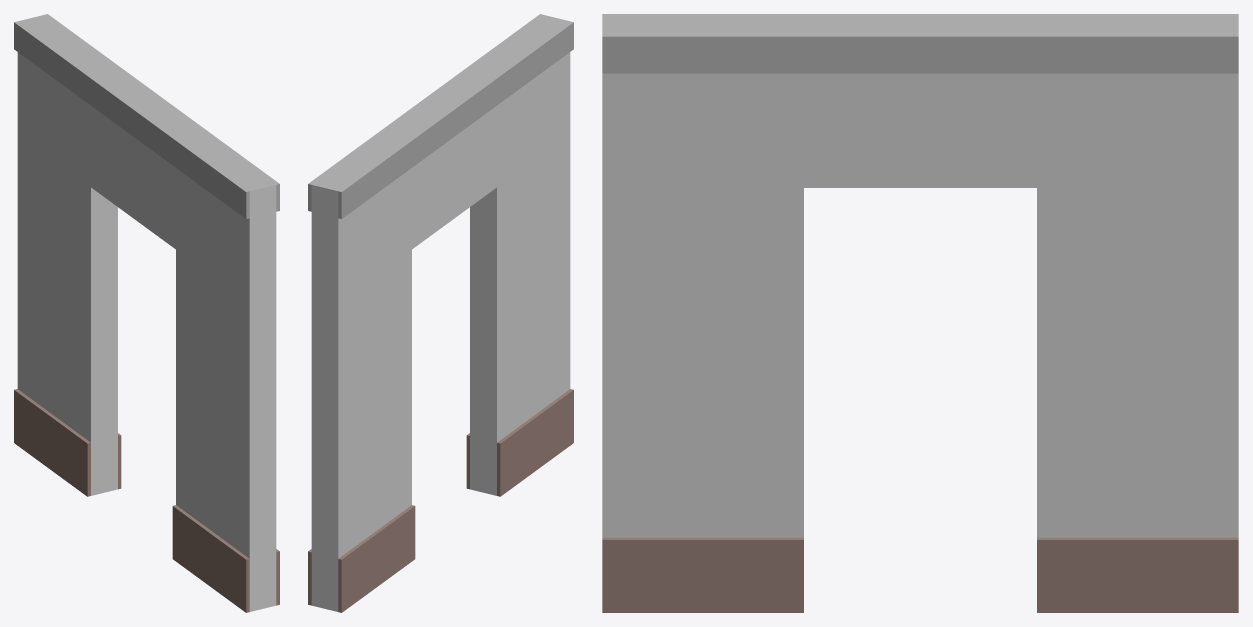
File: Wall02.fbx
3 views of the same model, side by side, from view 1: azimuth 30°, elevation 25°; view 2: azimuth 150°, elevation 25°; view 3: azimuth 270°, elevation 25° (orthographic). The views are drawn at different scales.
Parts seen in each view (by area): view 1: Wall02; view 2: Wall02; view 3: Wall02.
Part boxes in pixels (x1,y1,x2,y2): Wall02: [14, 14, 279, 612]; Wall02: [308, 14, 573, 612]; Wall02: [602, 14, 1238, 612].
Size of the model in its own units: 0.2519 by 3 by 3.
